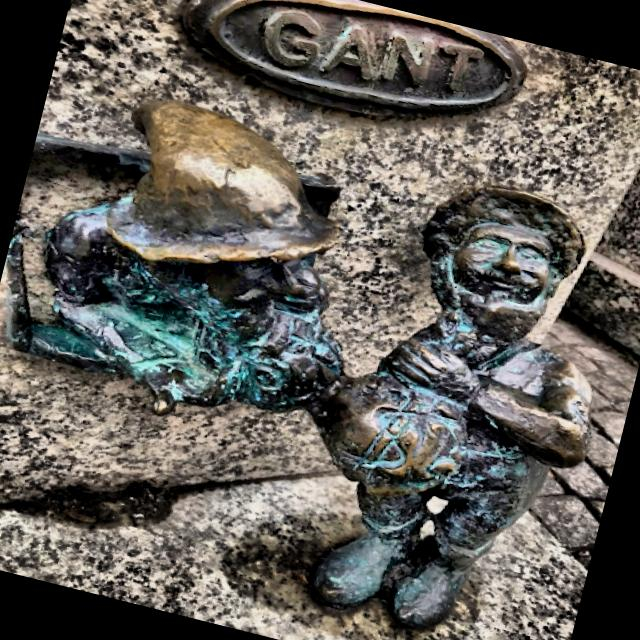Kantorki: (6, 100, 589, 627)
